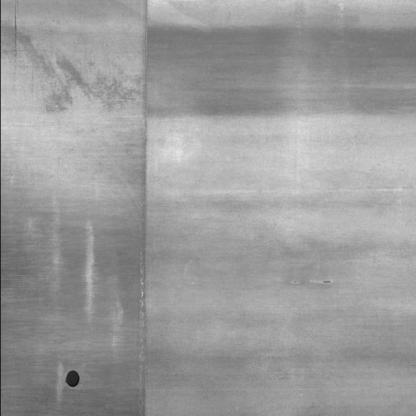punching_hole: (57, 367, 88, 392)
welding_line: (122, 2, 165, 416)
